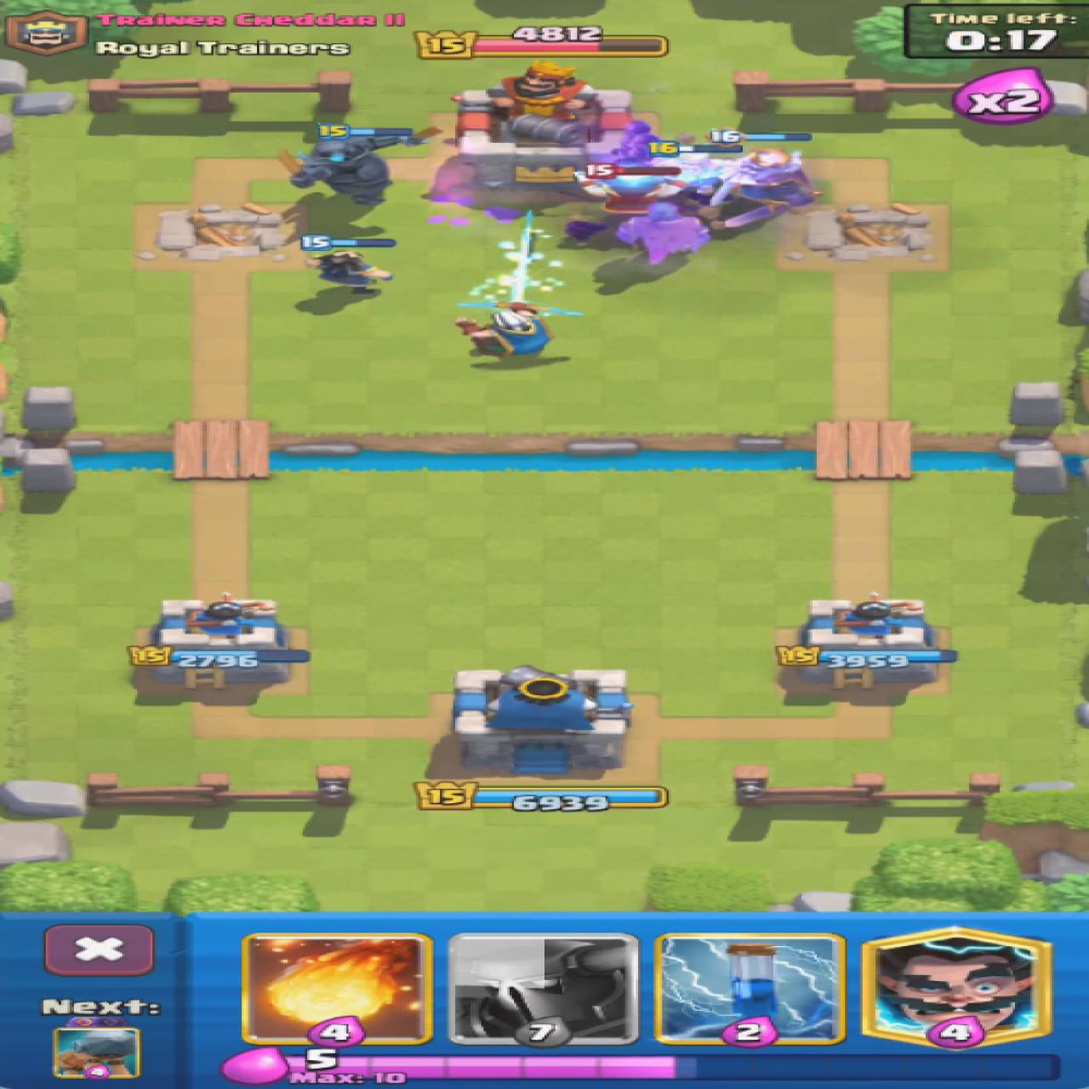Enemy-ElectroWizard: (574, 174, 688, 215)
Enemy-KingTower-Activated: (455, 62, 632, 196)
